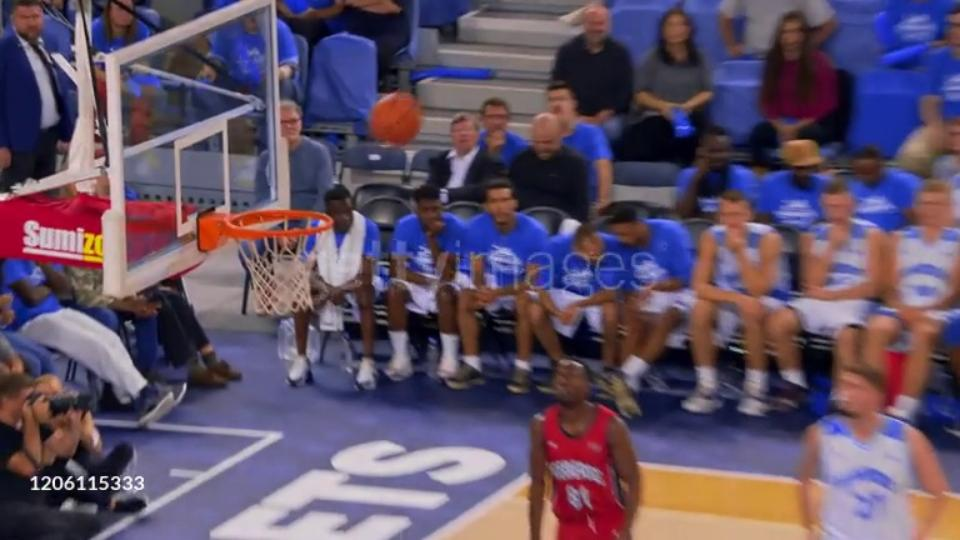hoop: (194, 209, 334, 252)
